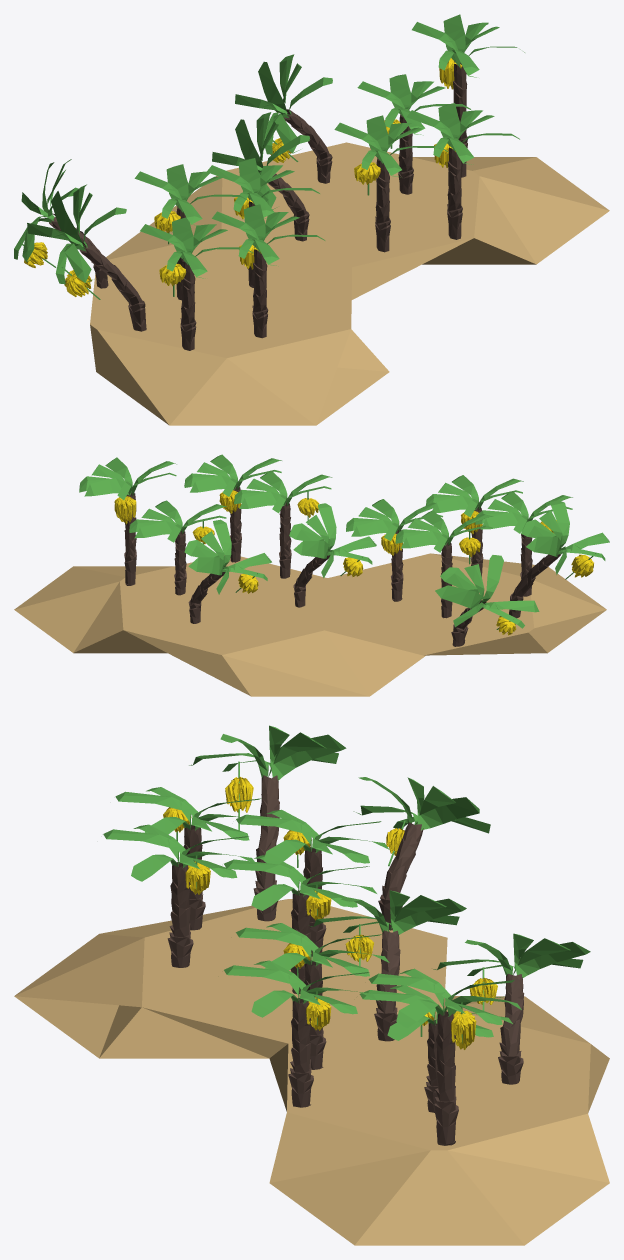
Rendered from insel3.fbx.
The picture shows the model from 3 angles, top to bottom: view 1: azimuth 30°, elevation 25°; view 2: azimuth 150°, elevation 25°; view 3: azimuth 270°, elevation 25°; orthographic projection. The views are drawn at different scales.
Parts seen in each view (by area): view 1: Landschaft, Blätter, Blätter_20, Blätter_24, Blätter_12, Blätter_16, Blätter_8, Blätter_6, Blätter_4, Blätter_10, Blätter_18, Blätter_22 (+10 smaller); view 2: Landschaft, Blätter_14, Blätter, Blätter_20, Blätter_8, Blätter_24, Blätter_12, Blätter_16, Blätter_10, Blätter_22, Blätter_6, Blätter_18 (+15 smaller); view 3: Landschaft, Blätter, Blätter_24, Blätter_14, Blätter_8, Blätter_20, Blätter_12, Blätter_6, Blätter_16, Stamm_24, Blätter_18, Blätter_10 (+15 smaller).
Part boxes in pixels (bbox=[...]): Landschaft: bbox=[90, 142, 609, 425]; Blätter: bbox=[27, 184, 126, 284]; Blätter_20: bbox=[235, 54, 332, 154]; Blätter_24: bbox=[412, 14, 524, 77]; Blätter_12: bbox=[406, 103, 519, 164]; Blätter_16: bbox=[134, 164, 248, 225]; Blätter_8: bbox=[212, 112, 309, 209]; Blätter_6: bbox=[212, 204, 325, 266]; Blätter_4: bbox=[140, 217, 253, 278]; Blätter_10: bbox=[334, 115, 447, 177]; Blätter_18: bbox=[207, 158, 319, 218]; Blätter_22: bbox=[357, 74, 470, 135]; Landschaft: bbox=[14, 553, 606, 696]; Blätter_14: bbox=[435, 555, 539, 628]; Blätter: bbox=[521, 500, 609, 574]; Blätter_20: bbox=[184, 519, 271, 594]; Blätter_8: bbox=[289, 503, 376, 578]; Blätter_24: bbox=[79, 457, 176, 500]; Blätter_12: bbox=[184, 454, 281, 496]; Blätter_16: bbox=[395, 510, 492, 552]; Blätter_10: bbox=[234, 471, 332, 513]; Blätter_22: bbox=[129, 500, 226, 542]; Blätter_6: bbox=[425, 475, 523, 517]; Blätter_18: bbox=[346, 499, 442, 540]; Landschaft: bbox=[14, 899, 609, 1245]; Blätter: bbox=[189, 725, 346, 780]; Blätter_24: bbox=[368, 968, 521, 1028]; Blätter_14: bbox=[353, 777, 490, 833]; Blätter_8: bbox=[309, 890, 466, 934]; Blätter_20: bbox=[433, 933, 590, 977]; Blätter_12: bbox=[224, 960, 377, 1017]; Blätter_6: bbox=[103, 824, 254, 881]; Blätter_16: bbox=[236, 809, 389, 864]; Stamm_24: bbox=[433, 1011, 458, 1145]; Blätter_18: bbox=[224, 855, 376, 910]; Blätter_10: bbox=[236, 923, 389, 976].
Size of the model in its own units: 8335 by 2344 by 6136.
4 materials, 3 textured.
